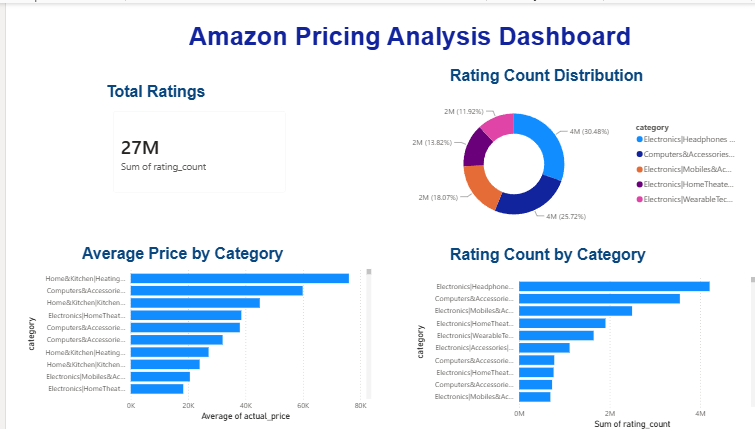

This screenshot's page, from the dashboard's own definition file:
{"tool":"powerbi","page":{"name":"Page 1","canvas":[1280,720],"ordinal":0},"visuals":[{"type":"barChart","fields":{"Category":["Project_1-amazon.category"],"Y":["Sum(Project_1-amazon.rating_count)"]},"box":[682,446.3,582.4,273.7],"z":0},{"type":"barChart","fields":{"Category":["Project_1-amazon.category"],"Y":["Avg(Project_1-amazon.actual_price)"]},"box":[29.3,433.2,589.8,273.7],"z":1000},{"type":"donutChart","fields":{"Category":["Project_1-amazon.category"],"Y":["Sum(Project_1-amazon.rating_count)"]},"box":[643.3,155,596.7,231.7],"z":2000},{"type":"cardVisual","fields":{"Data":["Sum(Project_1-amazon.rating_count)"]},"box":[162.4,163.9,324.9,171.2],"z":3000},{"type":"textbox","box":[302.9,26.3,756.6,62.9],"z":4000},{"type":"textbox","box":[162.4,128.8,185.9,51.2],"z":5000},{"type":"textbox","box":[740.5,102.4,383.4,51.2],"z":6000},{"type":"textbox","box":[122.9,401,402.4,45.4],"z":7000},{"type":"textbox","box":[740.5,402.4,401,61.5],"z":8000}]}

Visuals, with their boxes in screenshot pixels (x1, y1, x2, y2), scaled from the page's 1280x720 canvas onto the 755x429 screenshot:
barChart - Project_1-amazon.category x Sum(Project_1-amazon.rating_count): 402, 266, 746, 428
barChart - Project_1-amazon.category x Avg(Project_1-amazon.actual_price): 17, 258, 365, 421
donutChart - Project_1-amazon.category x Sum(Project_1-amazon.rating_count): 379, 92, 731, 230
cardVisual - Sum(Project_1-amazon.rating_count): 96, 98, 287, 200
textbox: 179, 16, 625, 53
textbox: 96, 77, 205, 107
textbox: 437, 61, 663, 92
textbox: 72, 239, 310, 266
textbox: 437, 240, 673, 276
